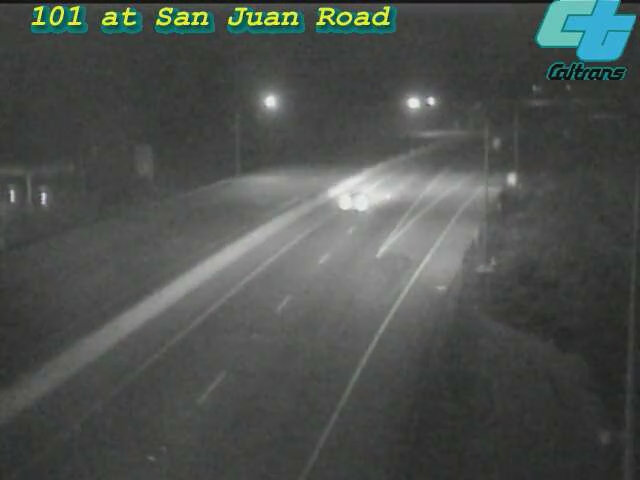vehicle: (314, 164, 394, 244)
